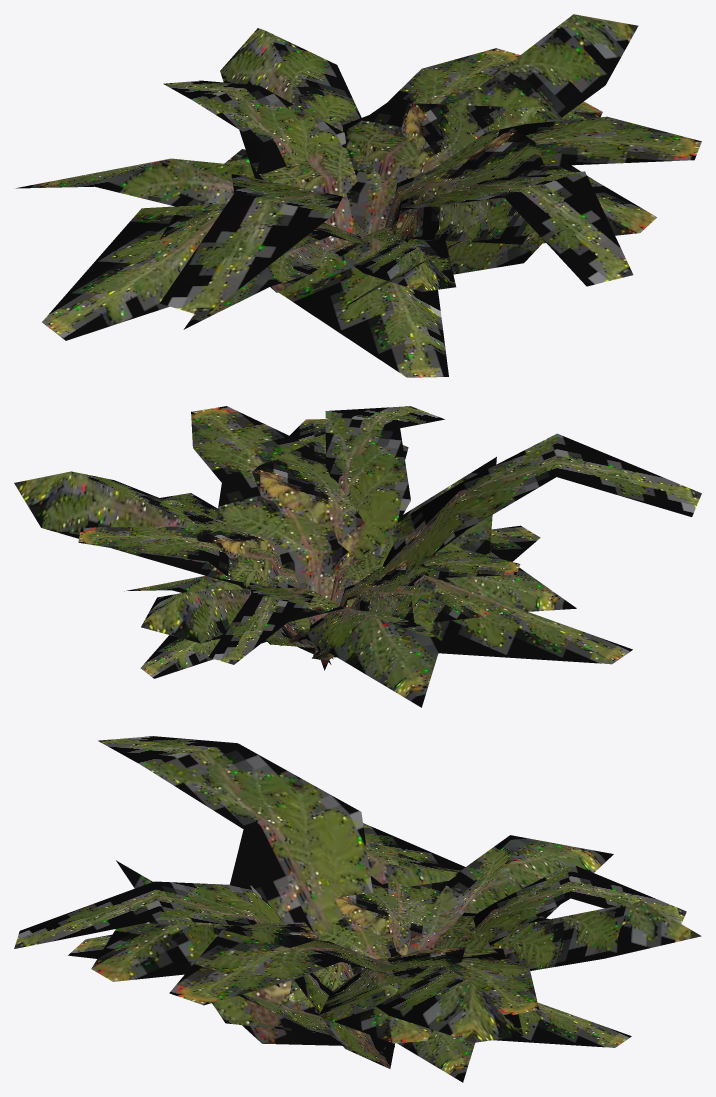
Rendered from NAT_Weed_Various05_Pack_A-transformed.glb.
The picture shows the model from 3 angles, top to bottom: view 1: azimuth 30°, elevation 25°; view 2: azimuth 150°, elevation 25°; view 3: azimuth 270°, elevation 25°; orthographic projection. The views are drawn at different scales.
Parts seen in each view (by area): view 1: default; view 2: default; view 3: default.
Boxes of the visible parts, x1,y1,x2,y2 form: default: (16, 14, 701, 377); default: (14, 406, 701, 707); default: (14, 736, 701, 1082).
Bounding box in the file's own units: 2.92 × 0.9518 × 2.7.
Materials: 1 (1 with a texture image).
